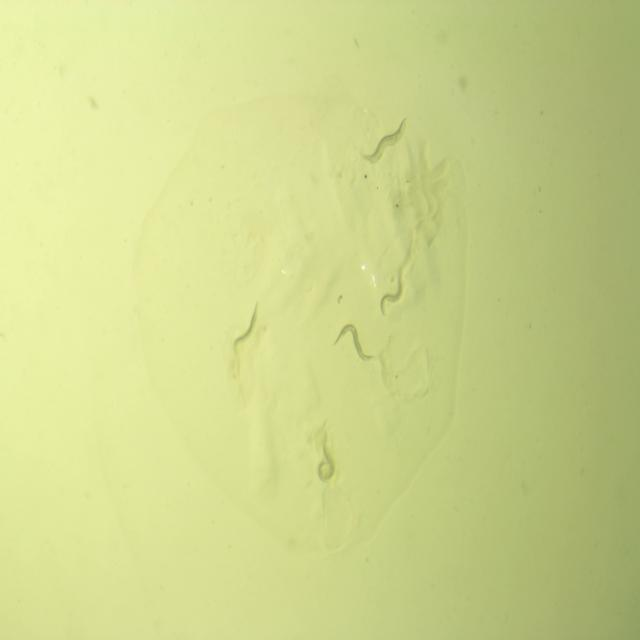worm: (358, 121, 410, 170), (361, 118, 412, 166), (329, 318, 378, 367), (232, 301, 268, 355), (374, 267, 406, 322), (312, 429, 338, 488)
